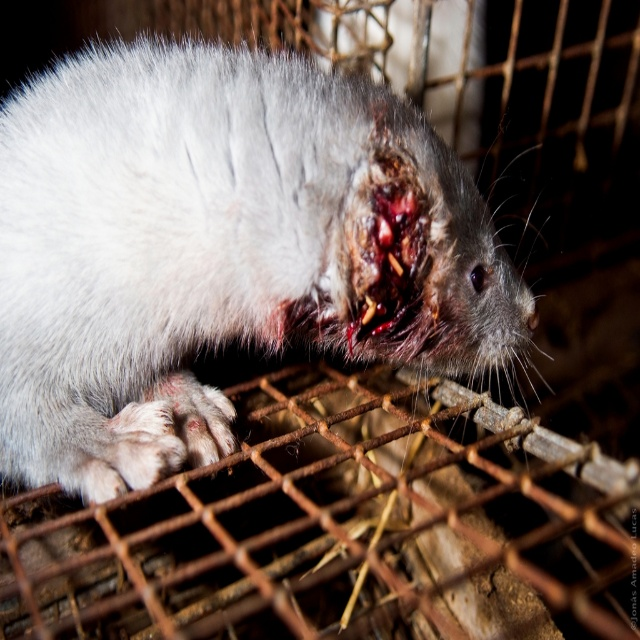Mouse: (0, 20, 556, 508)
